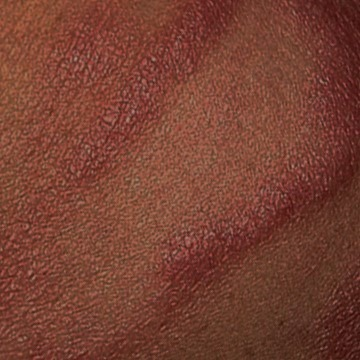Leprosy: (28, 0, 359, 197), (140, 200, 359, 359)
